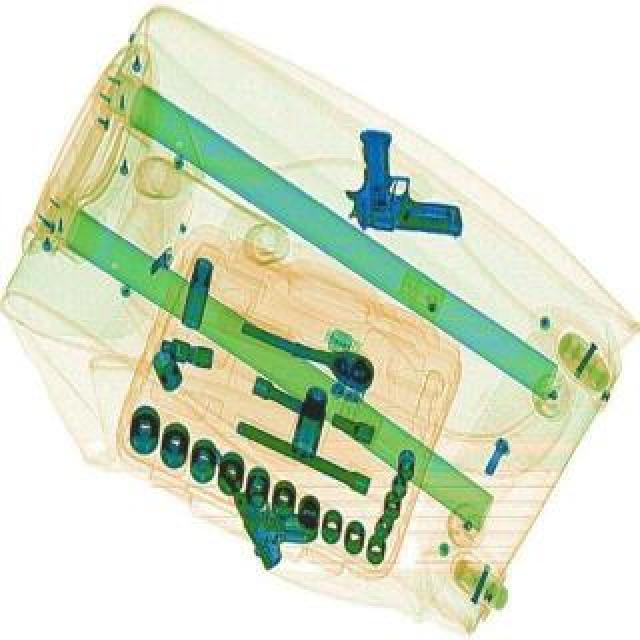gun: (206, 420, 326, 568), (338, 126, 474, 238)
